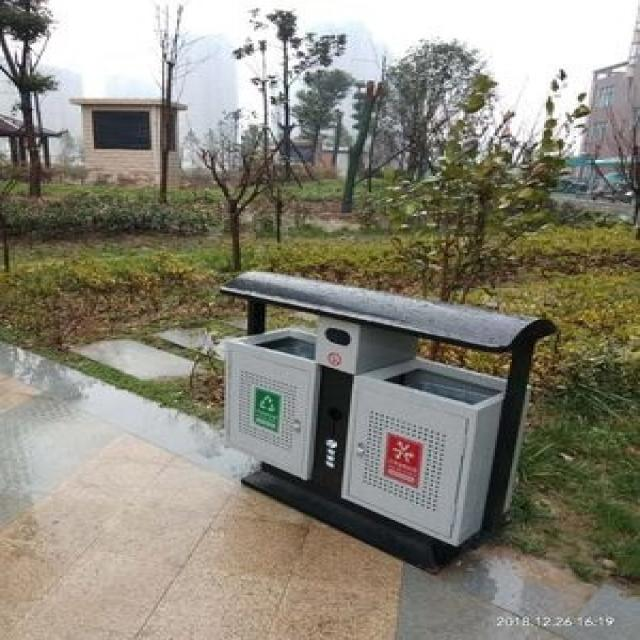ash bin: (211, 269, 555, 574)
